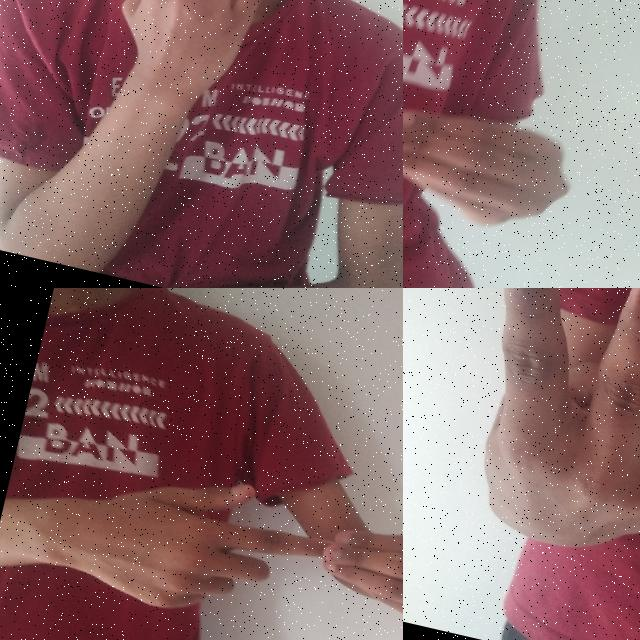Chin Flick: (43, 0, 397, 146)
Five Fathers: (63, 443, 403, 640), (403, 29, 582, 288)
Reversed Victory: (434, 288, 640, 593)
